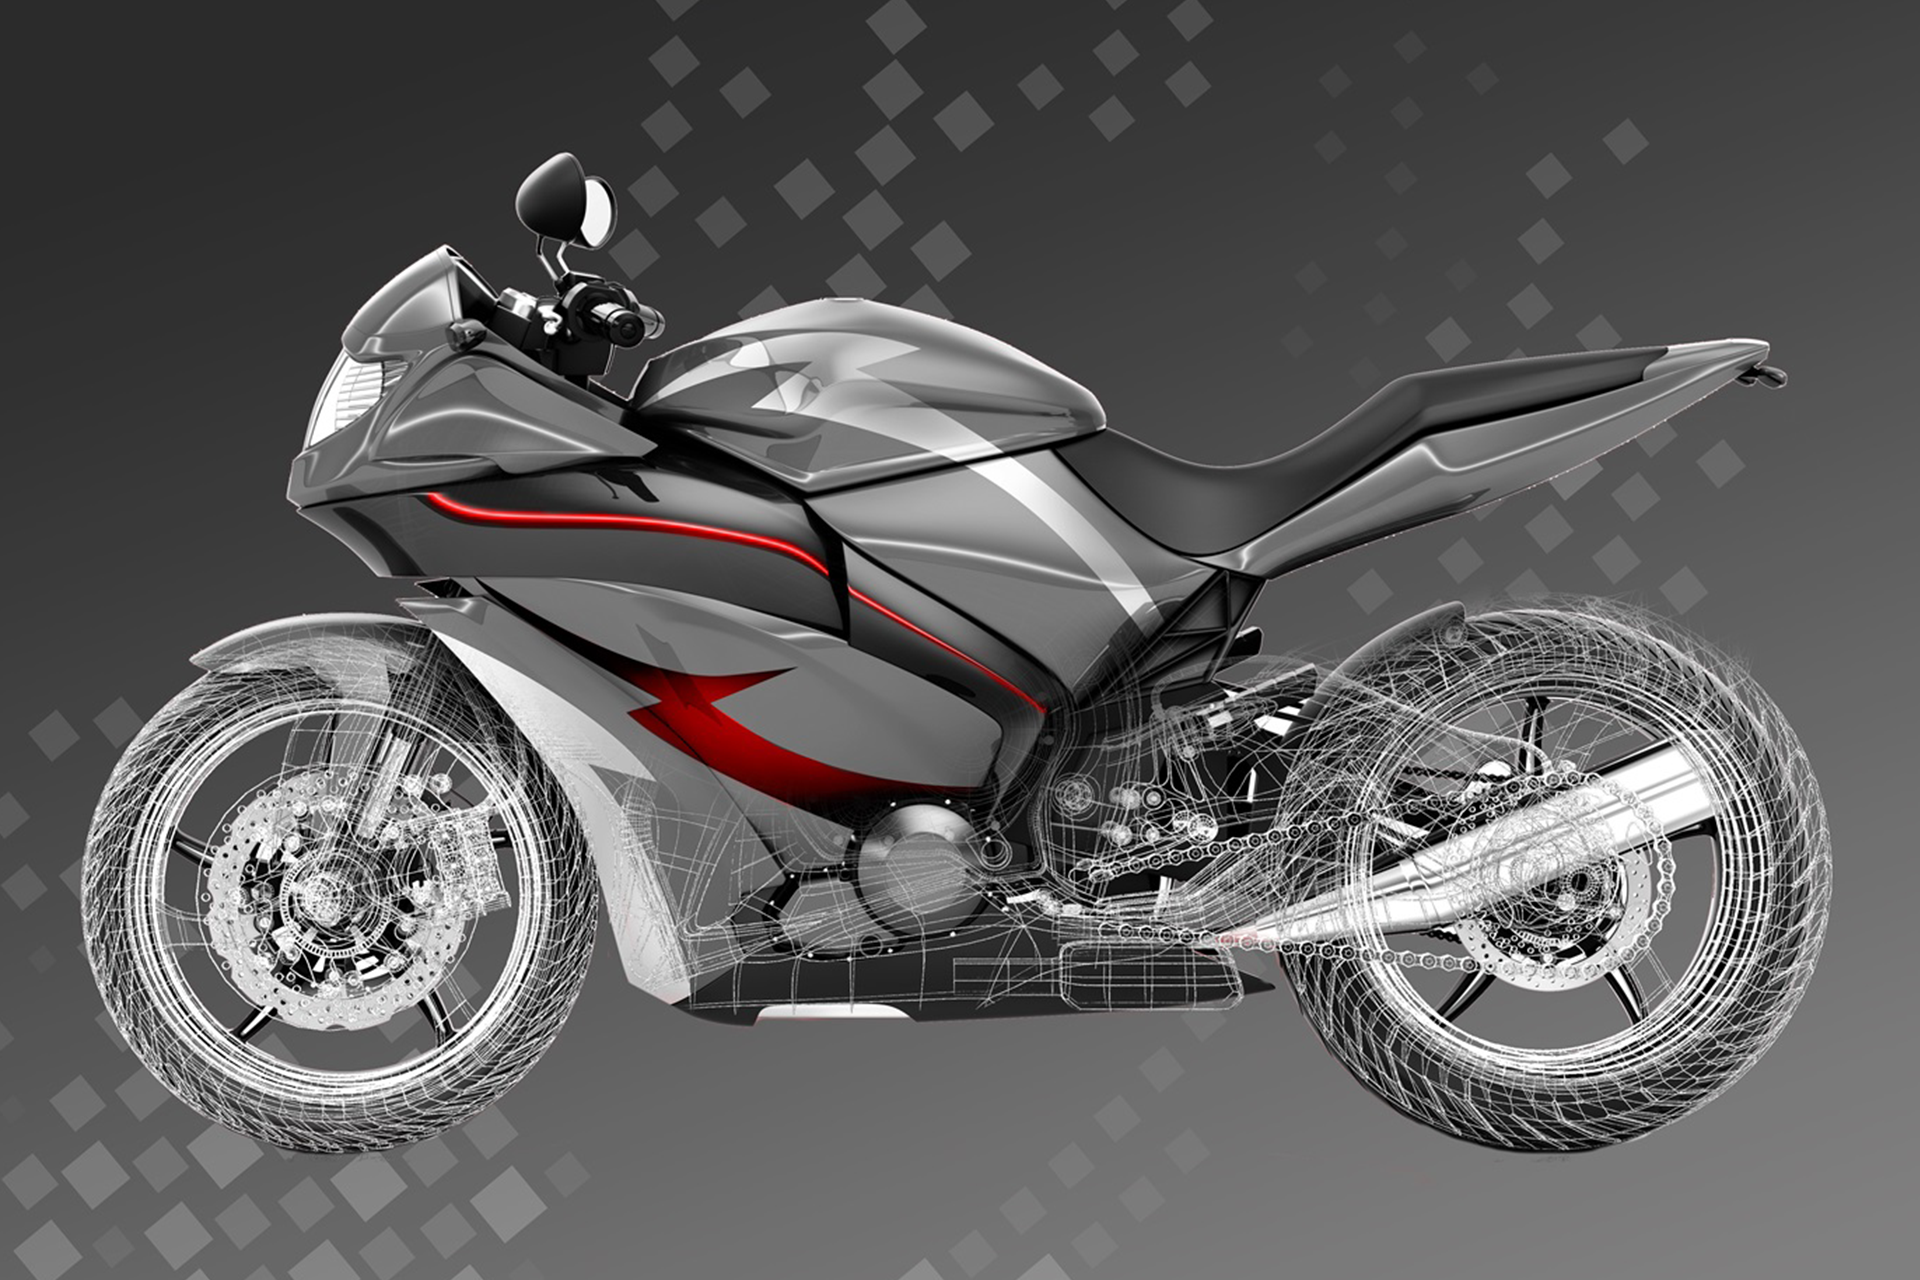bike: (119, 200, 1810, 1151)
